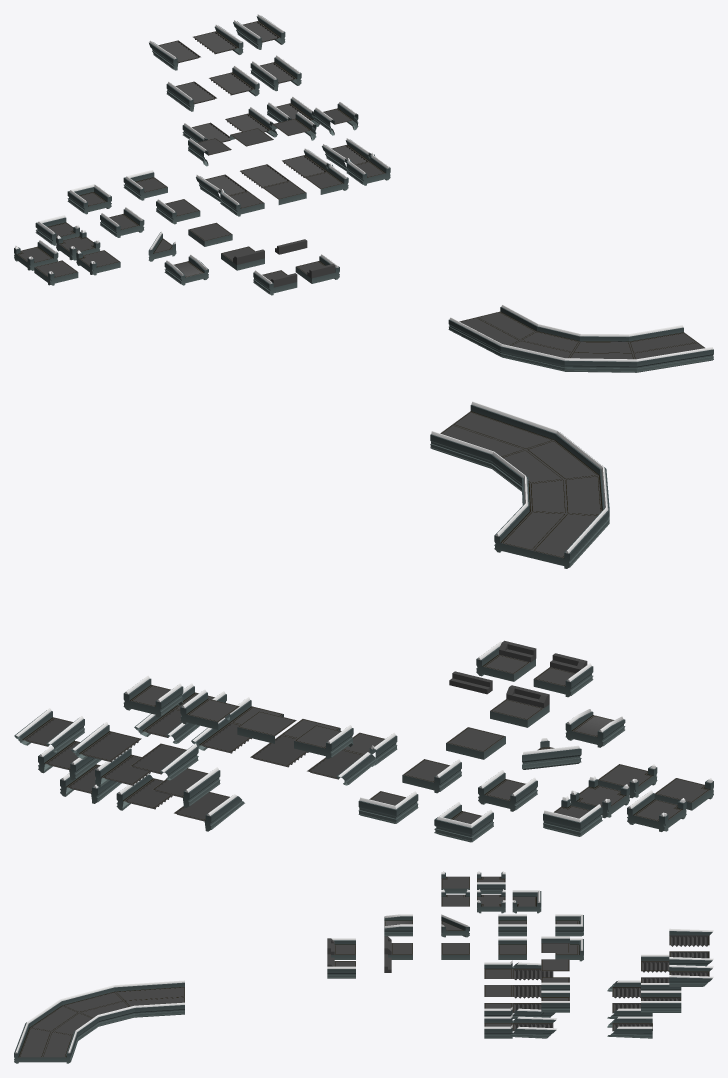
The model's file is Puentes.fbx.
3 views of the same model, one above another, from view 1: azimuth 30°, elevation 25°; view 2: azimuth 150°, elevation 25°; view 3: azimuth 270°, elevation 25° (orthographic). The views are drawn at different scales.
Parts seen in each view (by area): view 1: Puente081, Puente082, Puente084, Puente083, Puente066, Puente069, Puente014, Puente032, Puente067, Puente068, PuenteEsq003, PuenteEsq004 (+29 smaller); view 2: Puente084, Puente081, Puente069, Puente066, Puente082, Puente032, Puente083, Puente067, Puente035, Puente3Sentidos, Puente01, PuenteEsq003 (+29 smaller); view 3: Puente084, Puente081, Puente083, Puente069, Puente014, Puente013, Puente066, Puente032, Puente034, Puente082, Puente068, Puente048 (+32 smaller).
Boxes of the visible parts, <box> form: Puente081: <box>633,342,713,372</box>; Puente082: <box>564,352,636,372</box>; Puente084: <box>448,317,519,356</box>; Puente083: <box>500,340,572,371</box>; Puente066: <box>629,325,697,352</box>; Puente069: <box>477,304,538,340</box>; Puente014: <box>250,55,301,91</box>; Puente032: <box>233,14,285,49</box>; Puente067: <box>573,334,632,352</box>; Puente068: <box>521,324,580,352</box>; PuenteEsq003: <box>67,184,111,214</box>; PuenteEsq004: <box>123,170,167,200</box>; Puente084: <box>532,507,609,568</box>; Puente081: <box>452,401,557,449</box>; Puente069: <box>494,503,565,558</box>; Puente066: <box>430,424,525,468</box>; Puente082: <box>526,431,605,479</box>; Puente032: <box>14,708,84,752</box>; Puente083: <box>564,467,609,522</box>; Puente067: <box>491,449,563,491</box>; Puente035: <box>123,675,183,717</box>; Puente3Sentidos: <box>627,790,686,831</box>; Puente01: <box>478,770,537,811</box>; PuenteEsq003: <box>434,802,493,842</box>; Puente084: <box>114,980,184,1000</box>; Puente081: <box>14,1022,51,1063</box>; Puente083: <box>61,985,123,1012</box>; Puente069: <box>124,997,184,1017</box>; Puente014: <box>641,990,681,1012</box>; Puente013: <box>607,1016,652,1038</box>; Puente066: <box>42,1030,77,1063</box>; Puente032: <box>669,965,713,986</box>; Puente034: <box>509,1016,557,1038</box>; Puente082: <box>25,999,78,1031</box>; Puente068: <box>80,1001,134,1026</box>; Puente048: <box>669,928,713,946</box>.
Size of the model in its own units: 591 by 96.8 by 967.
Materials: 1 (1 with a texture image).
